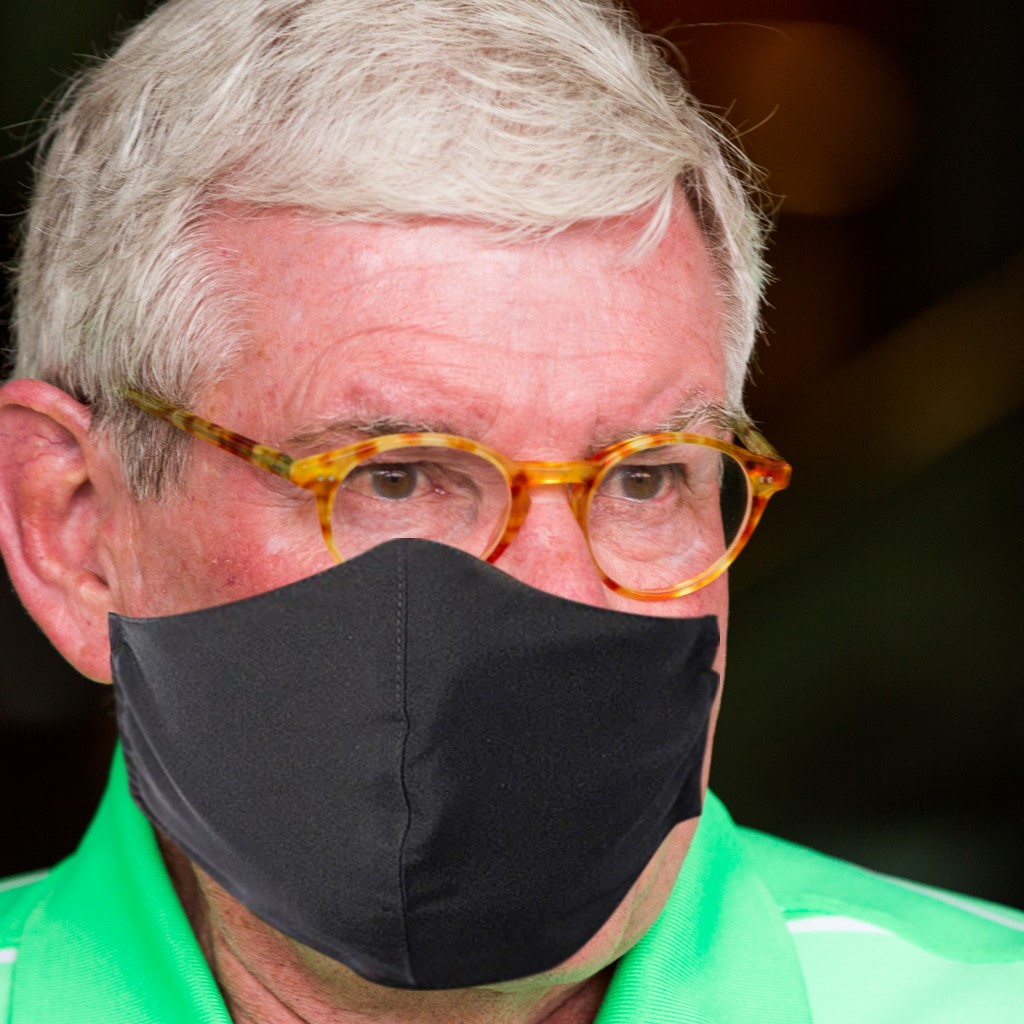con_mascara: (62, 152, 735, 950)
